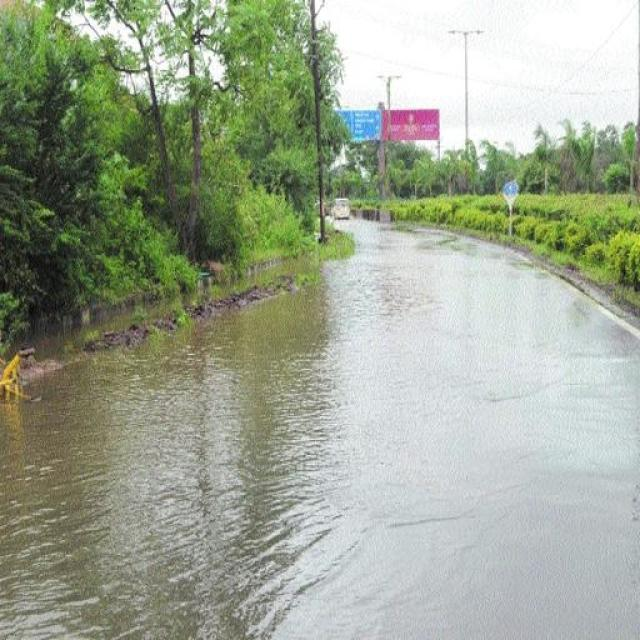puddle: (28, 341, 385, 640), (338, 221, 530, 639)
